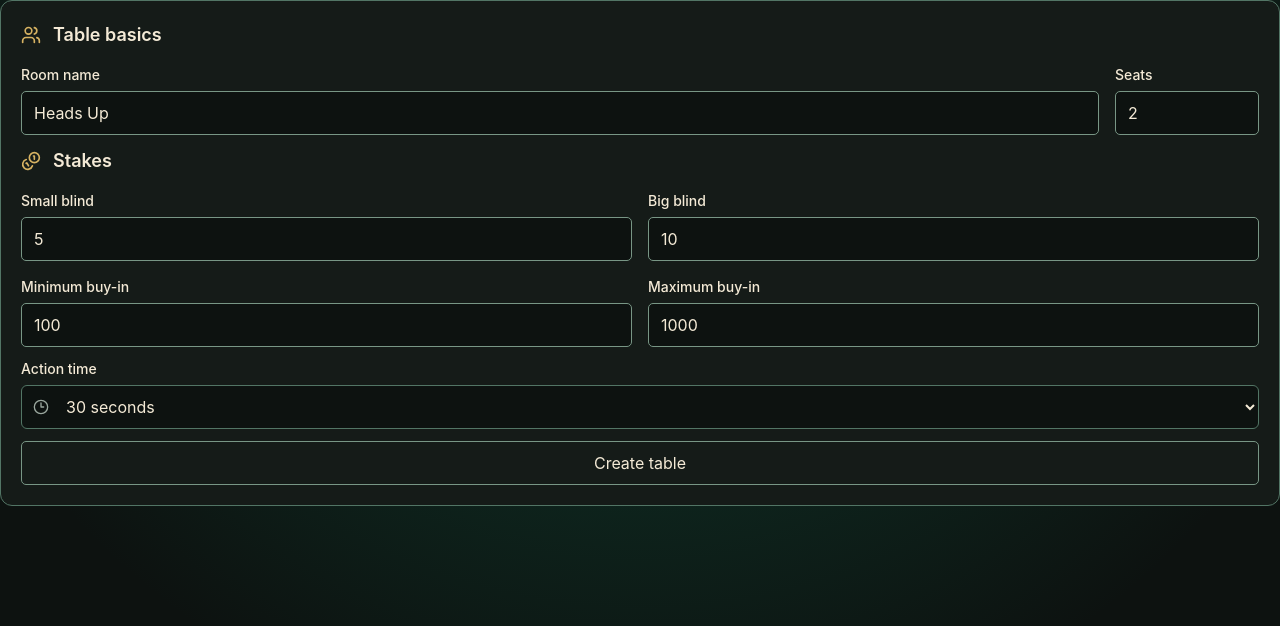
CreateRoomForm › maps client validation failures to catalogued field errors
Replace the text in the number field labelled "Seats" with "1" at [1187, 113], box [1115,91,1259,135]
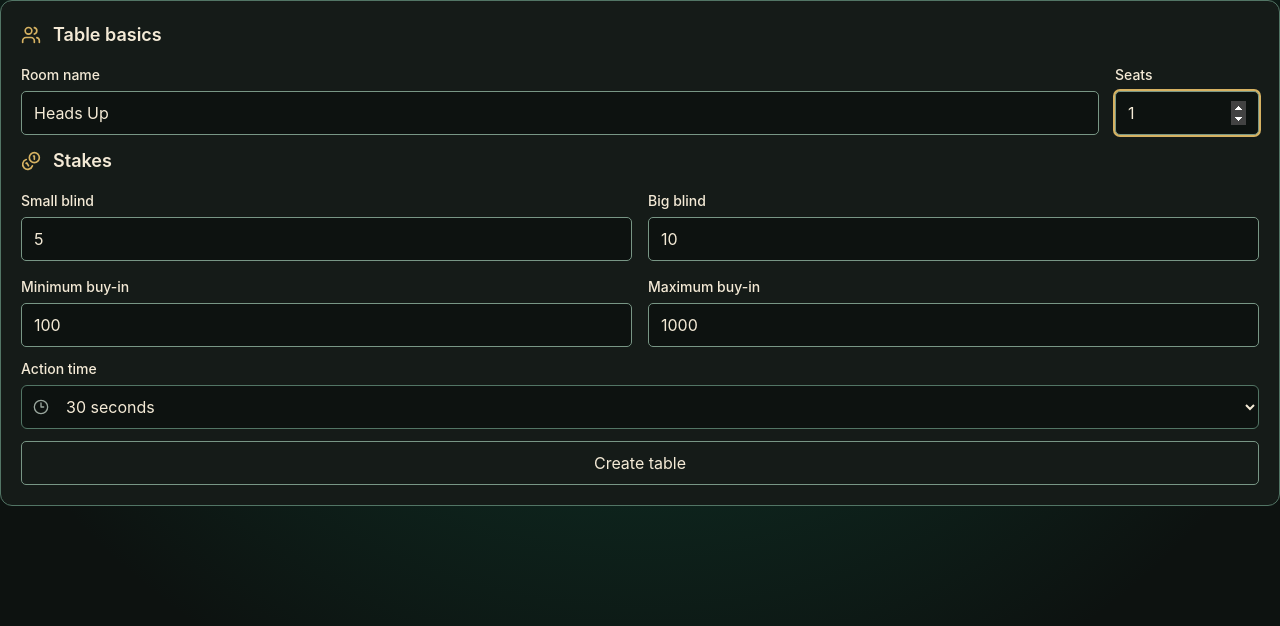
Click the button "Create table" at [640, 463], box [21,441,1259,485]
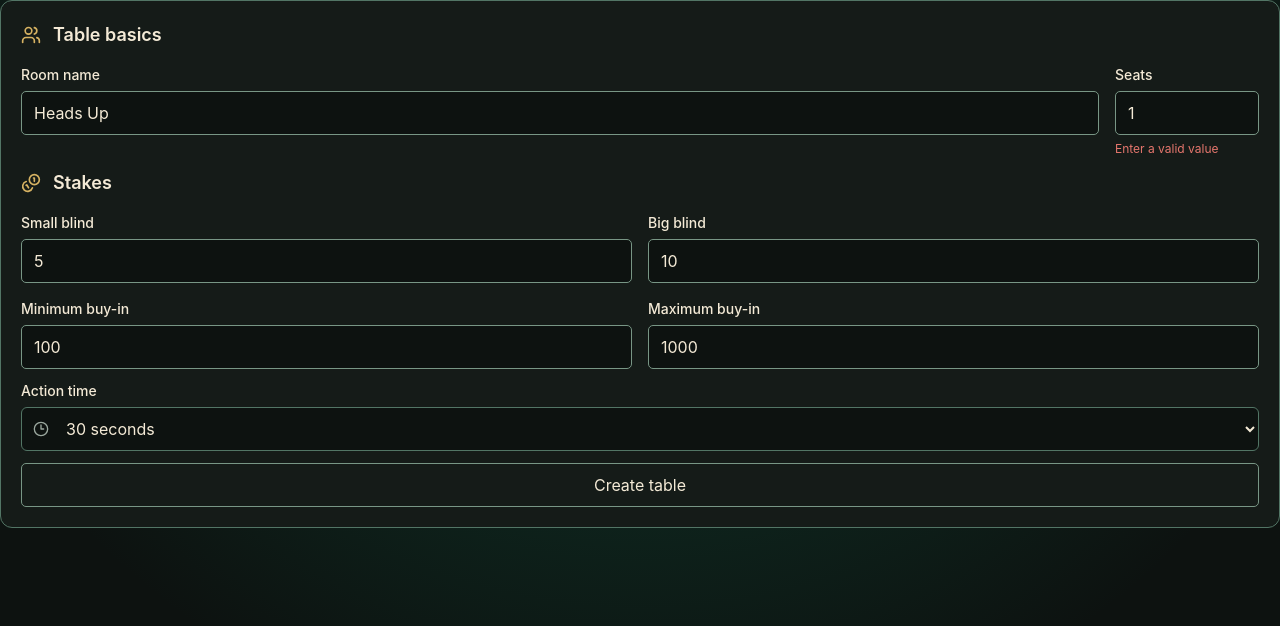
expect the message reads "Enter a valid value": met, box [1115,141,1218,156]
